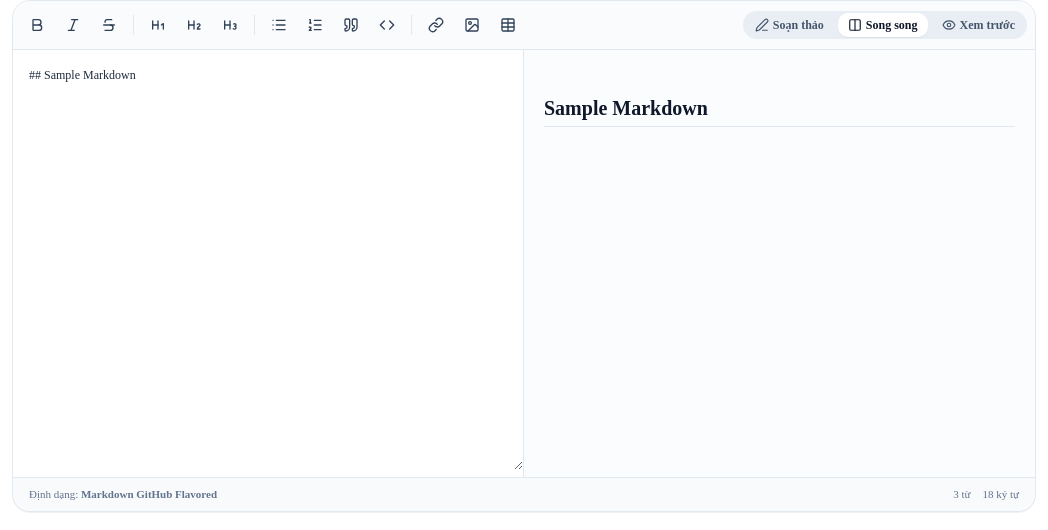
MarkdownEditor Component › should toggle between split view, editor only, and preview only
# Click Preview Only ("Xem trước")
What coordinates should you click on to do the following:
click the button "Xem trước"
I would click on:
 (978, 25)
Its box is left=932, top=13, right=1025, bottom=37.
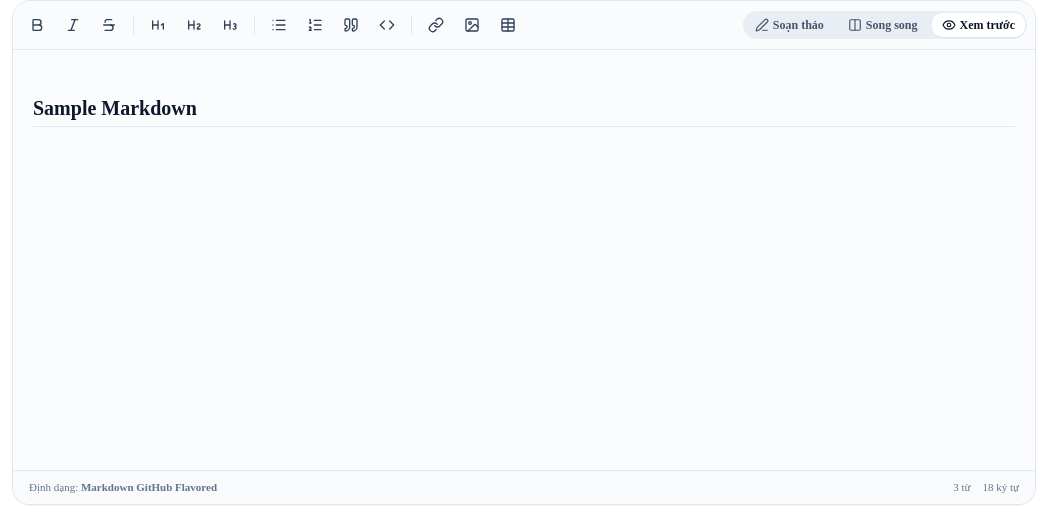
# Click Editor Only ("Soạn thảo")
What coordinates should you click on to do the following:
click the button "Soạn thảo"
I would click on:
 (789, 25)
Its box is left=745, top=13, right=834, bottom=37.
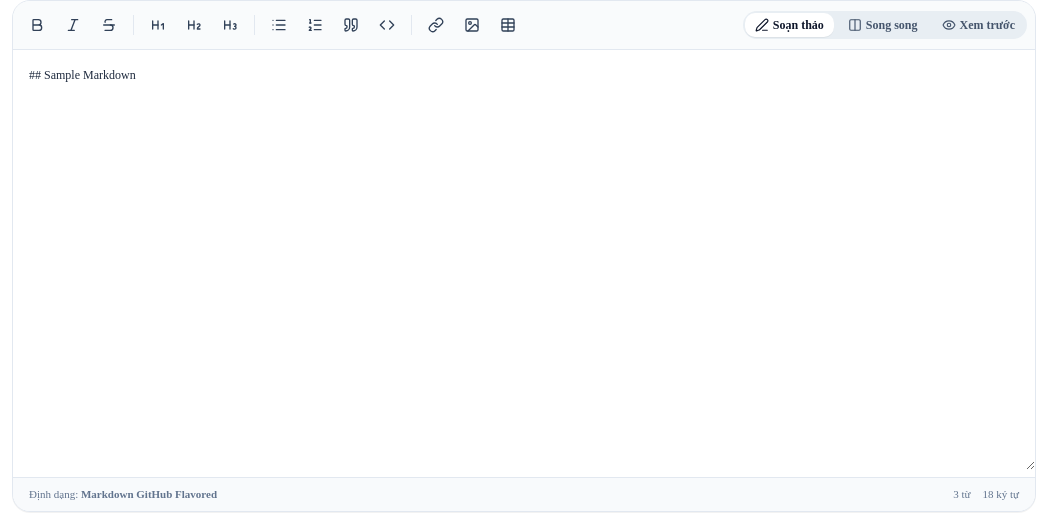
Result: the text box with placeholder "Nhập nội dung bài viết theo định dạng Markdown..." is shown
